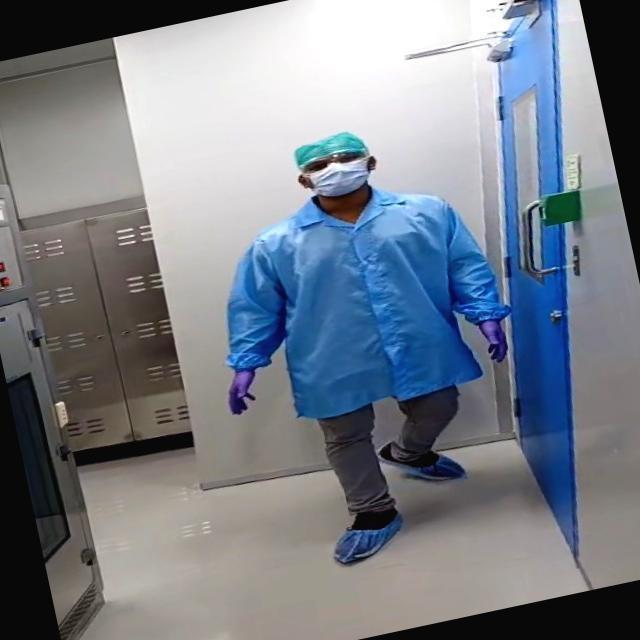apron: (468, 312, 518, 364), (222, 365, 264, 420)
